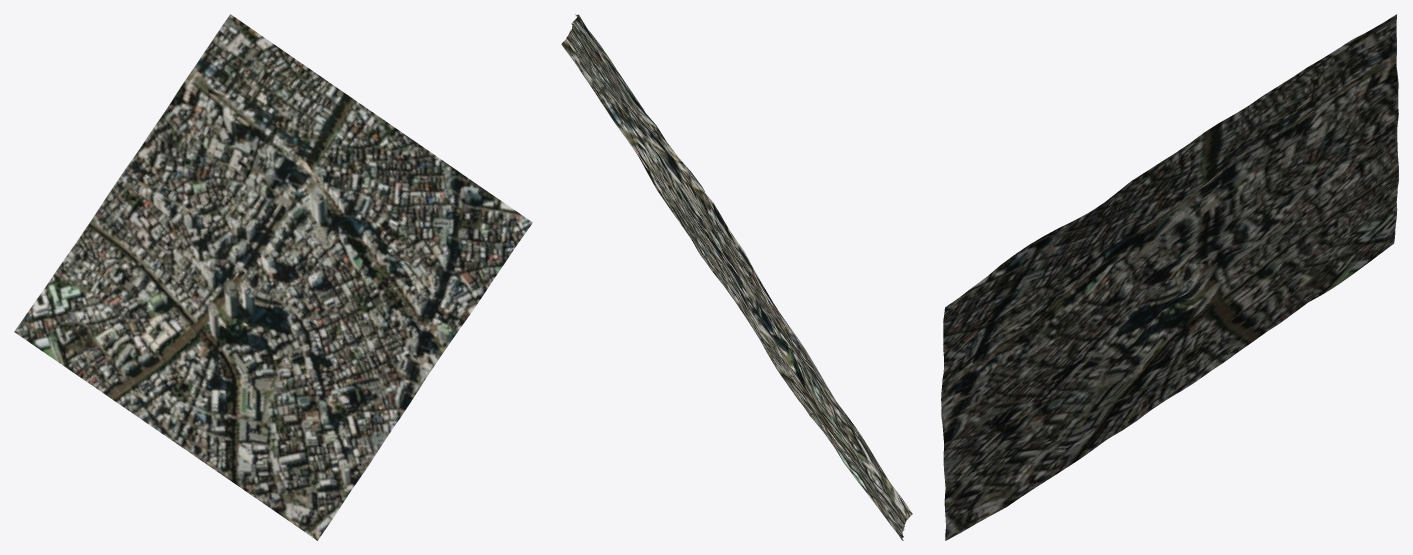
The picture shows the model from 3 angles, left to right: view 1: azimuth 30°, elevation 25°; view 2: azimuth 150°, elevation 25°; view 3: azimuth 270°, elevation 25°; orthographic projection. The views are drawn at different scales.
Bounding box in the file's own units: 1088 × 1131 × 816.
Materials: 1 (1 with a texture image).
